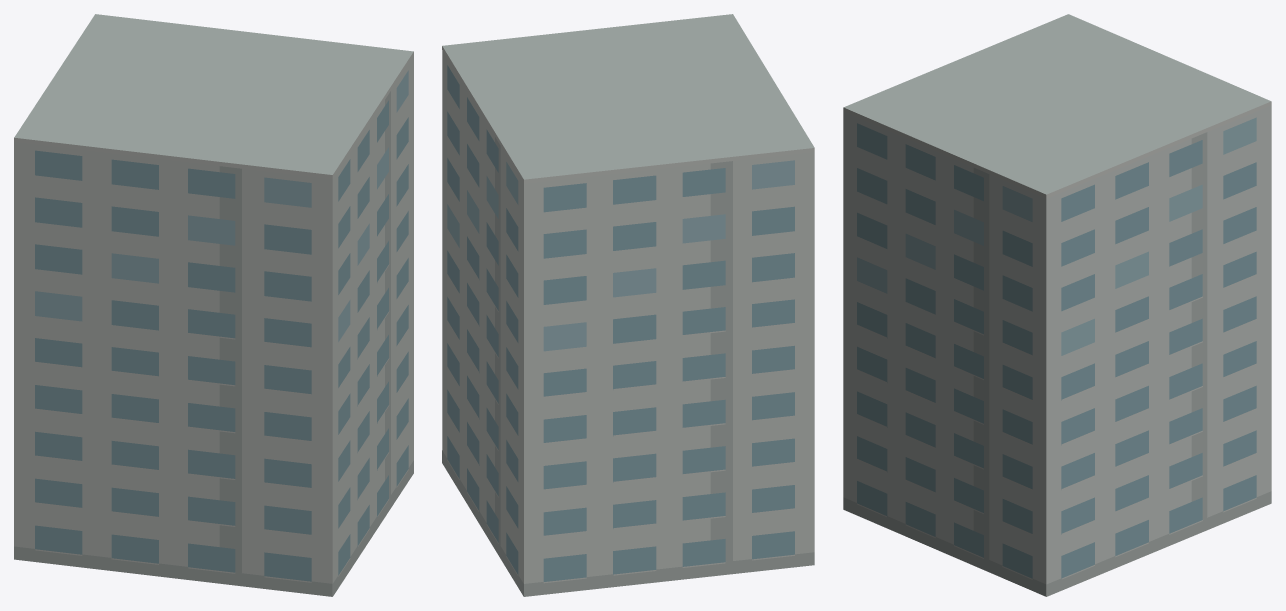
The model's file is residential-1d574139-d409-44db-9ee2-c1e20fc4a602.glb.
3 views of the same model, side by side, from view 1: azimuth 30°, elevation 25°; view 2: azimuth 150°, elevation 25°; view 3: azimuth 270°, elevation 25° (orthographic). The views are drawn at different scales.
Parts seen in each view (by area): view 1: residential-1d574139-d409-44db-9ee2-c1e20fc4a602.tmp; view 2: residential-1d574139-d409-44db-9ee2-c1e20fc4a602.tmp; view 3: residential-1d574139-d409-44db-9ee2-c1e20fc4a602.tmp.
Boxes of the visible parts, left/top/right/bottom form: residential-1d574139-d409-44db-9ee2-c1e20fc4a602.tmp: left=14, top=14, right=413, bottom=596; residential-1d574139-d409-44db-9ee2-c1e20fc4a602.tmp: left=442, top=14, right=814, bottom=596; residential-1d574139-d409-44db-9ee2-c1e20fc4a602.tmp: left=843, top=14, right=1271, bottom=596.
Bounding box in the file's own units: 23.12 × 24 × 23.15.
